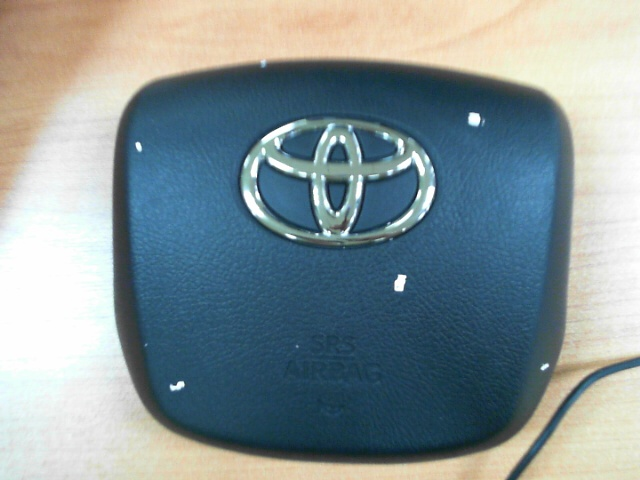Airbag: (466, 112, 488, 128), (393, 274, 408, 293), (168, 380, 187, 393), (133, 139, 145, 154), (540, 362, 550, 372), (259, 57, 266, 67)
